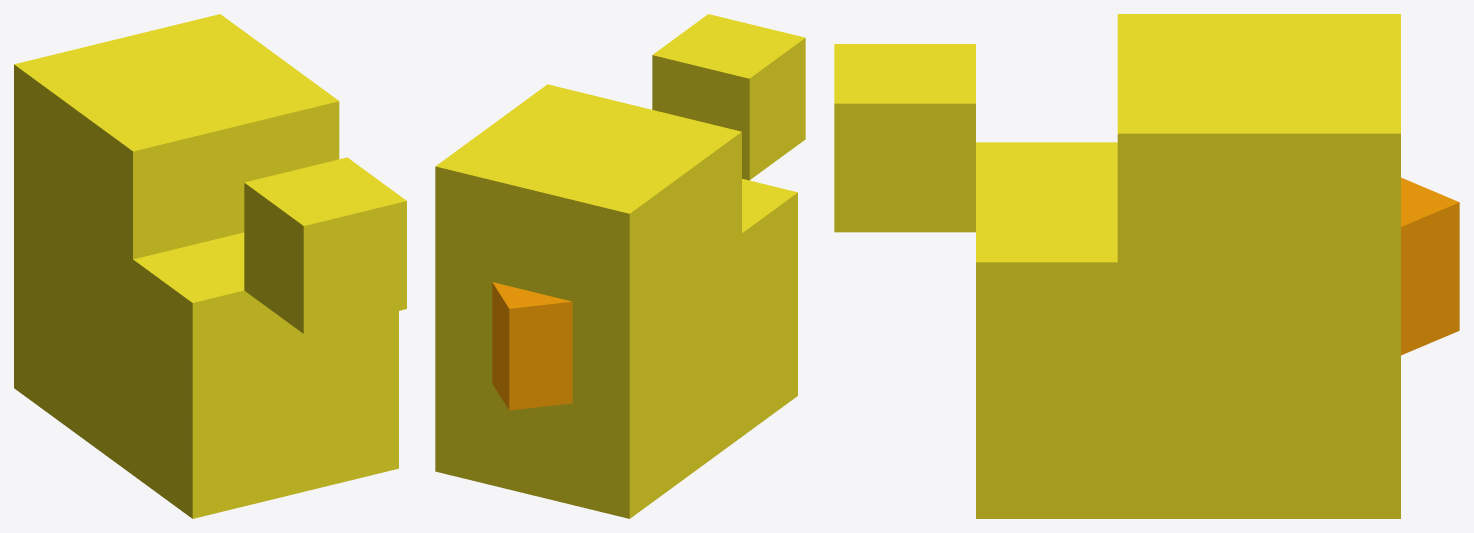
File: duck.gltf
3 views of the same model, side by side, from view 1: azimuth 30°, elevation 25°; view 2: azimuth 150°, elevation 25°; view 3: azimuth 270°, elevation 25° (orthographic). The views are drawn at different scales.
Parts seen in each view (by area): view 1: duck-Local, duck-tail-Local; view 2: duck-Local, duck-tail-Local, duck-bec-Local; view 3: duck-Local, duck-tail-Local, duck-bec-Local.
Boxes of the visible parts, x1,y1,x2,y2 form: duck-Local: (14,14,398,518); duck-tail-Local: (244,157,406,333); duck-Local: (435,84,797,518); duck-tail-Local: (652,14,805,180); duck-bec-Local: (492,282,572,410); duck-Local: (976,14,1400,518); duck-tail-Local: (834,44,975,232); duck-bec-Local: (1401,177,1459,355).
Size of the model in its own units: 2 by 3 by 4.41.
Materials: 3 (3 with a texture image).
